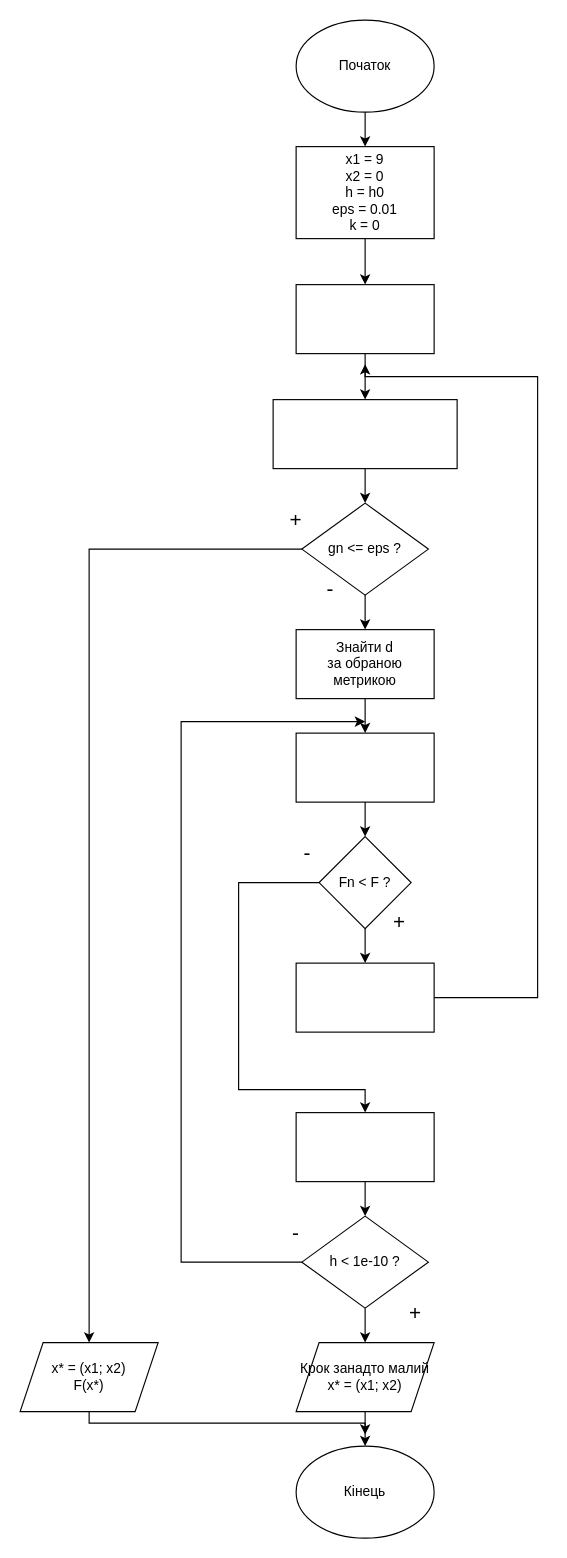
Some shapes in this 567 by 1558 pixel diagram are drawn without their labels. The centre of each missing label's shape, as x and y in pixels:
"F = F(x1, x2)" goes at (x=364, y=318).
"g1 = 8x1 + 2x2 - 18 g2 = 6x2 + 2x1 + 12 gn = sqrt(g1^2 + g2^2)" goes at (x=364, y=433).
"h = h / 2" goes at (x=364, y=1146).
"x1 = xn1 x2 = xn2 F = Fn k = k + 1" goes at (x=364, y=997).
"xn1 = x1 + h*d1 xn2 = x2 + h*d2 Fn = F(xn1, xn2)" goes at (x=364, y=767).
